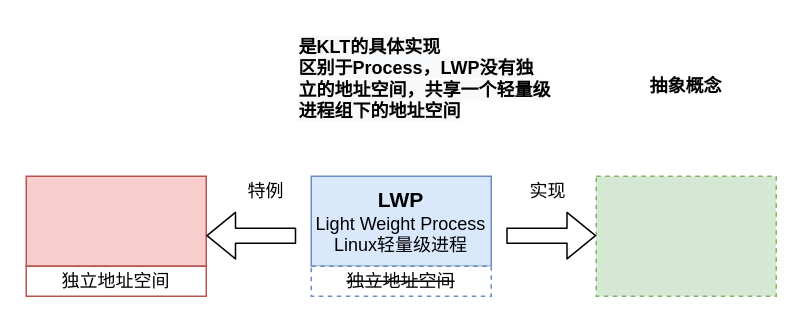
Some shapes in this 810 by 323 pixel diagram are drawn without their labels. Each missing label, with the centre of its shape:
KLT Kernel Level Thread Linux线程: pixel 685 235
Process Linux进程: pixel 115 220
